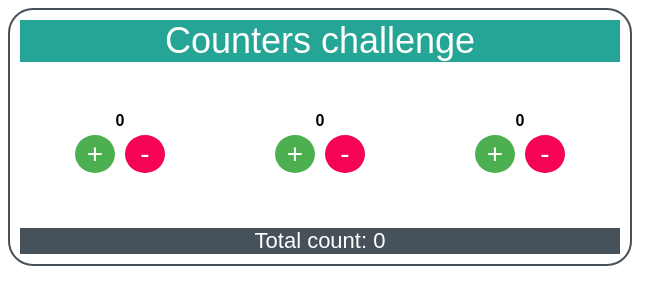
it: Counter 1 should show an increment of 1 when pressing +
The image size is (649, 283).
Click the button with test id "increment-btn-1". click: click(95, 154)
box: [75,135,115,173]
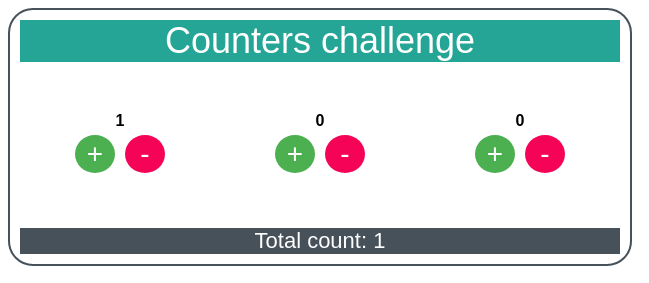
Expected: the text with test id "counter-1" reads "1", [116,112,124,129]
